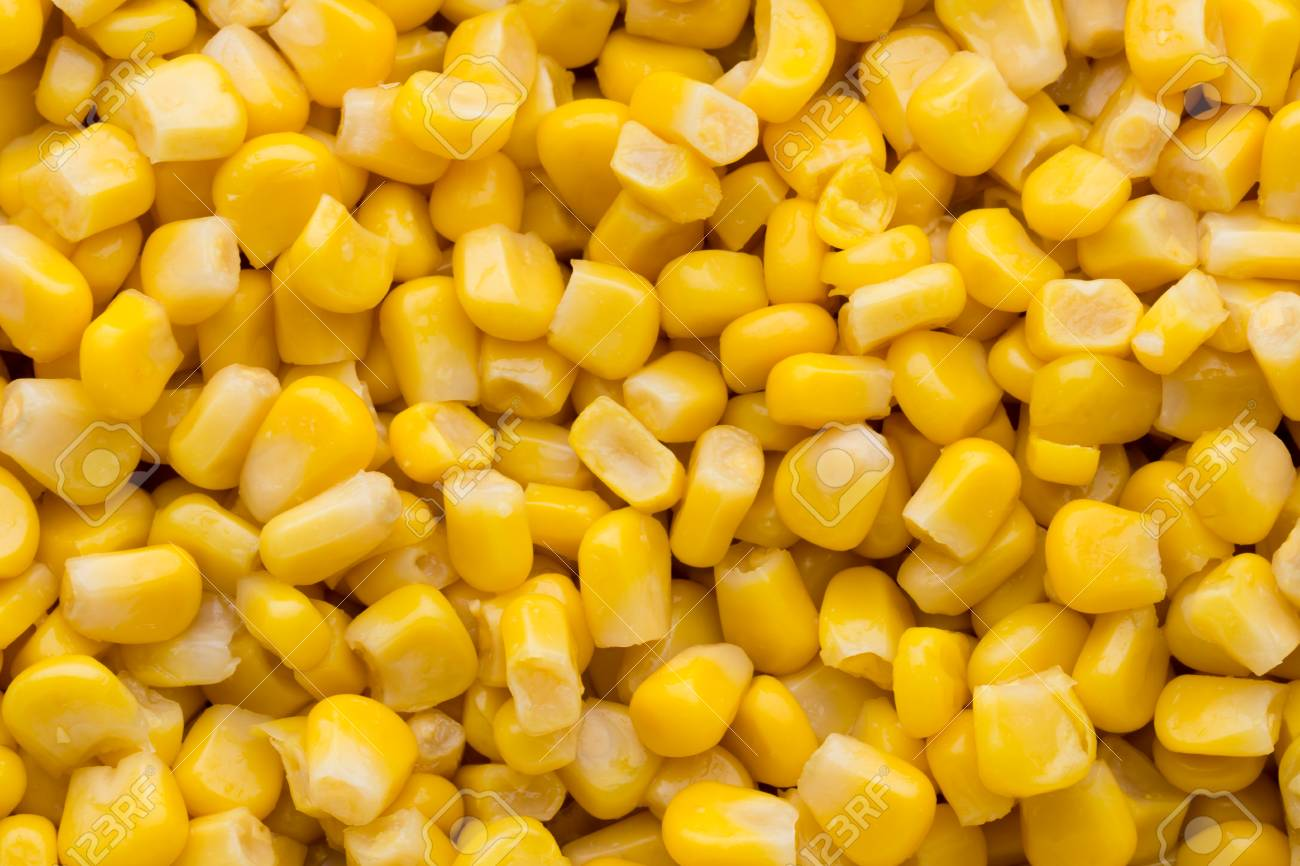corn: (905, 438, 1026, 563), (58, 545, 202, 645), (581, 502, 676, 651), (132, 46, 250, 165), (543, 259, 659, 379), (1151, 668, 1291, 767), (662, 776, 800, 866), (760, 351, 895, 431)
